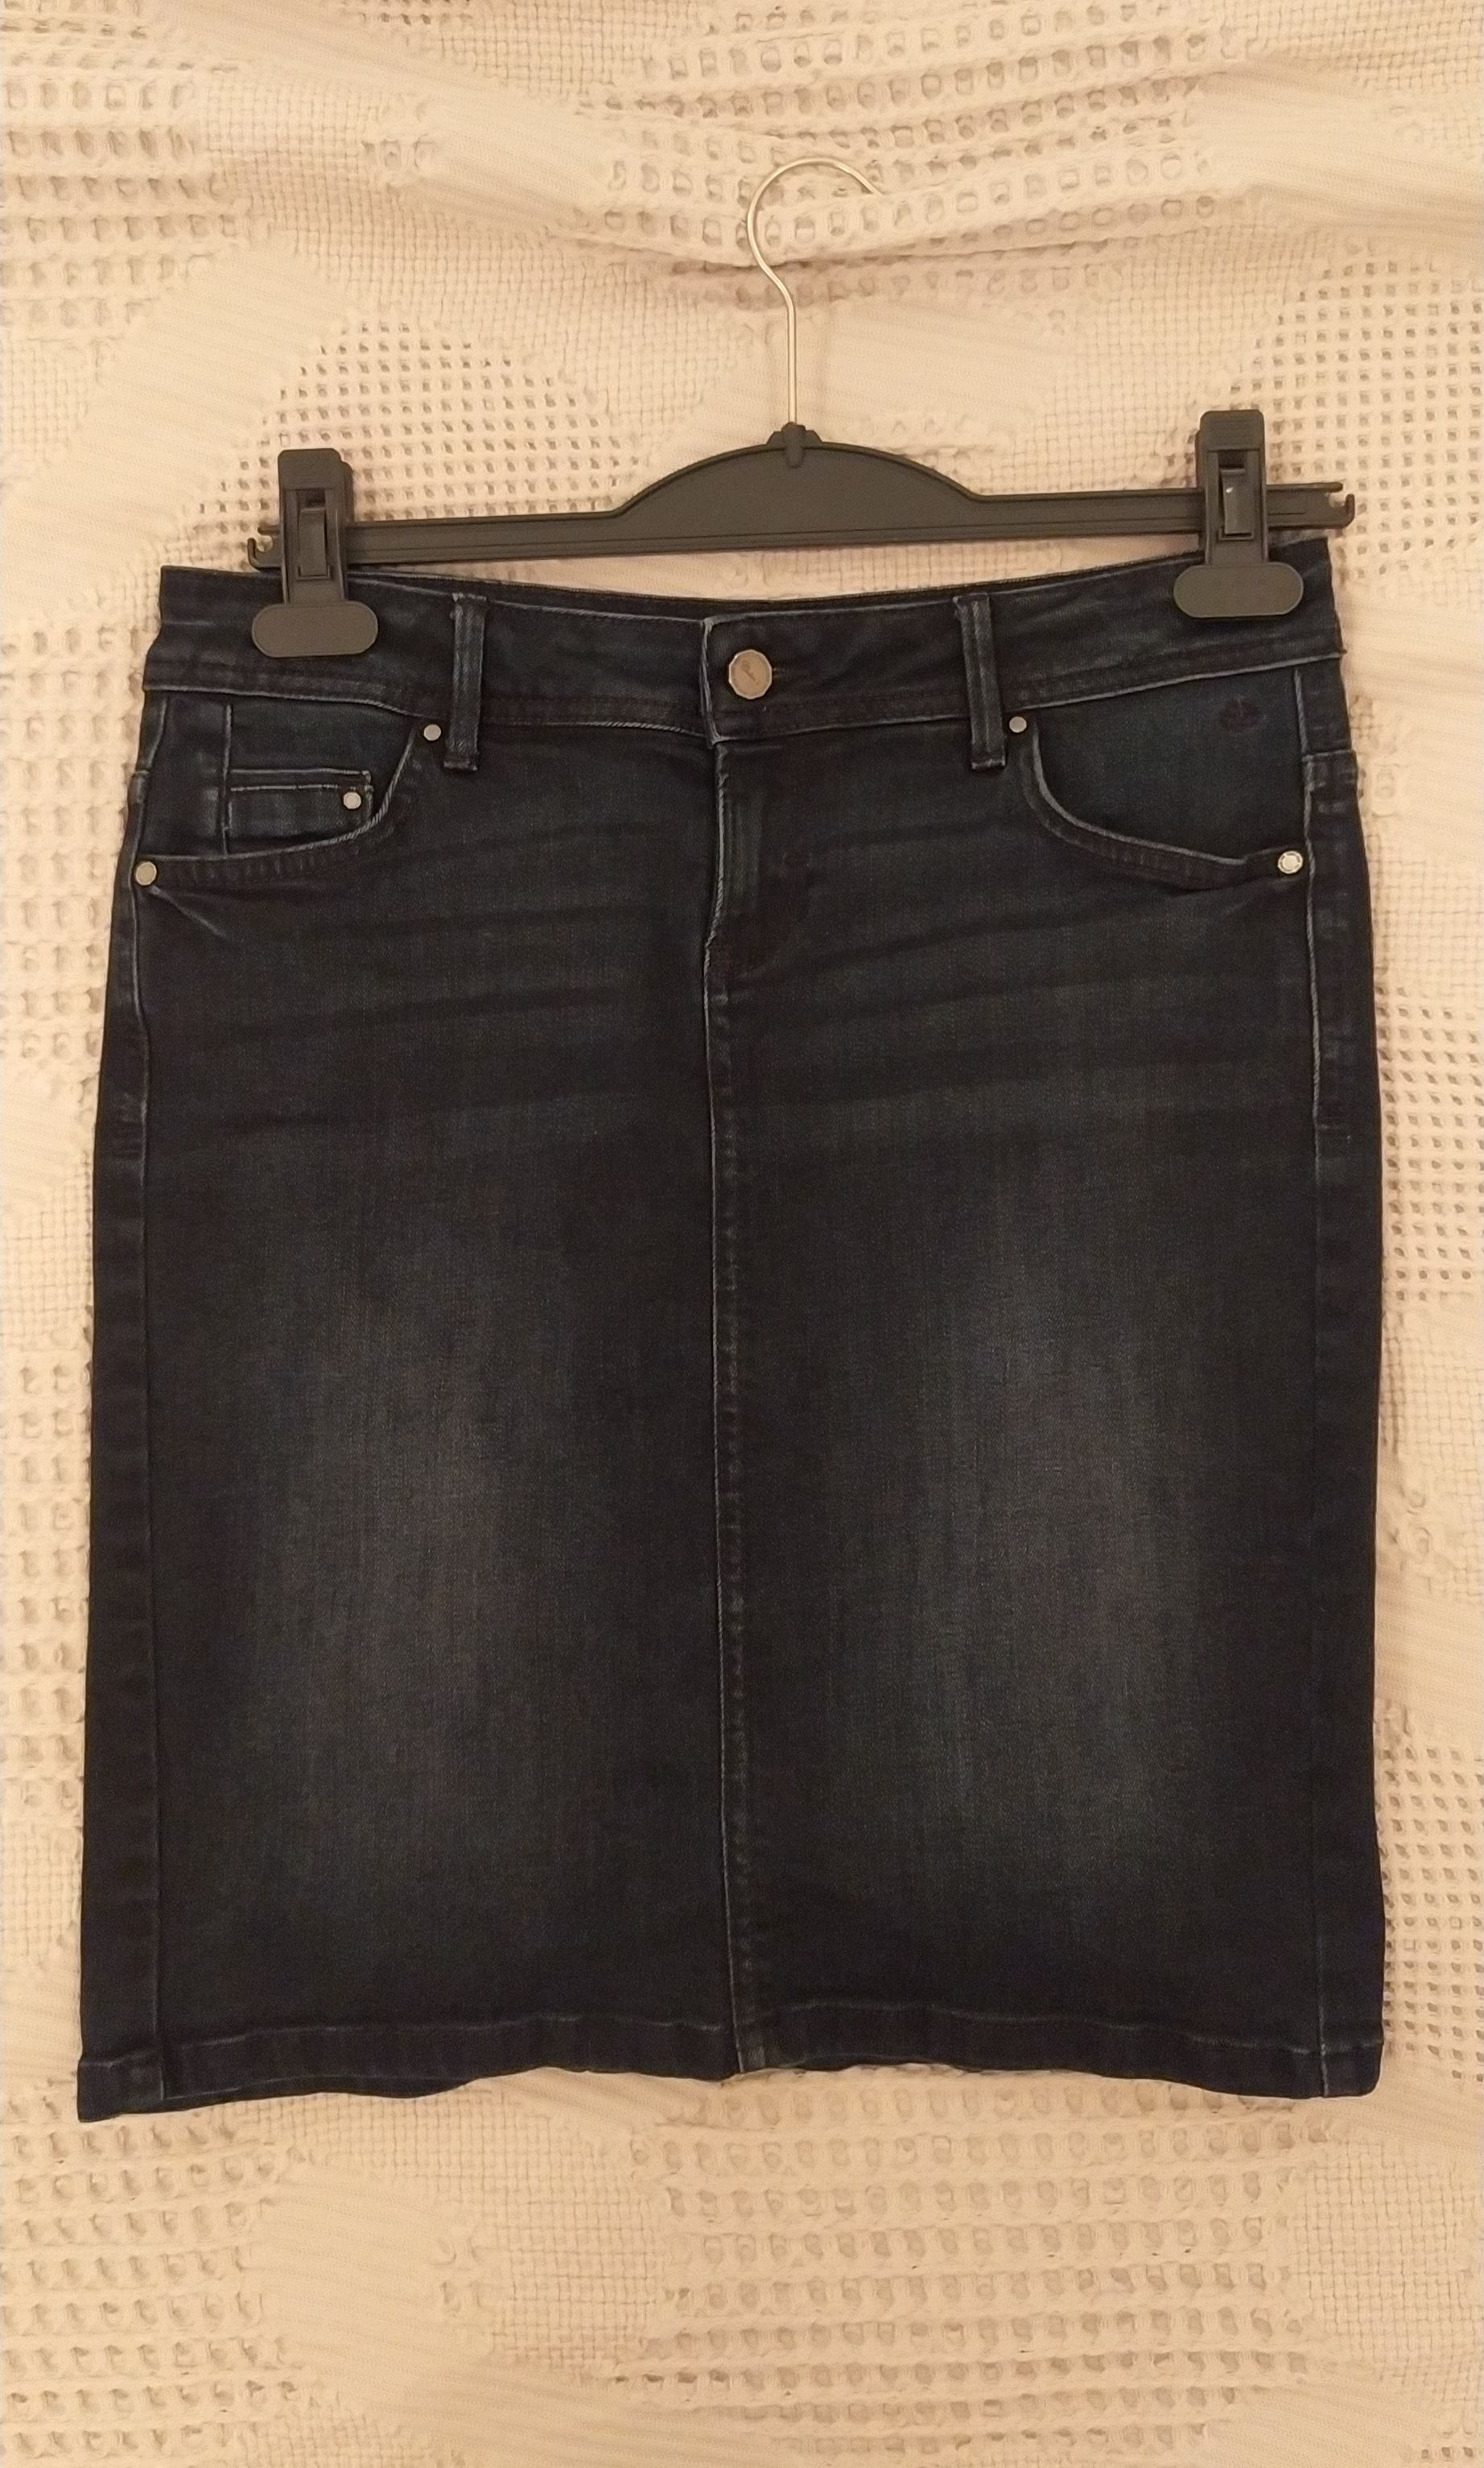clothes: (58, 536, 1401, 2103)
